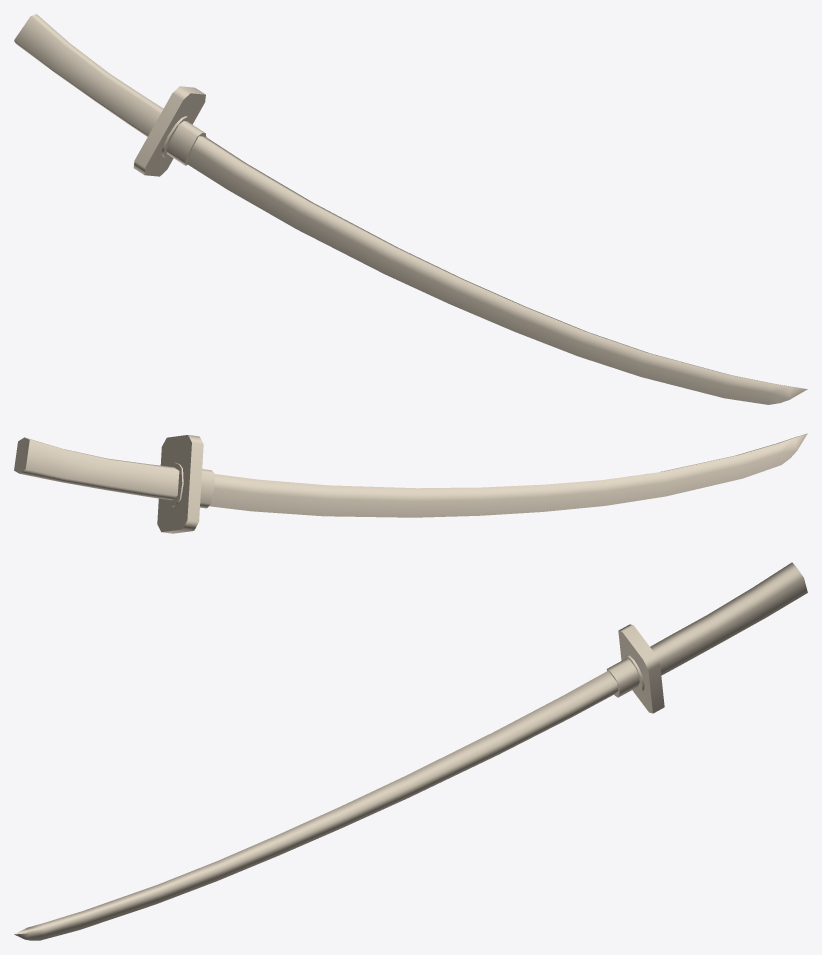
File: weapon-base.glb
3 views of the same model, one above another, from view 1: azimuth 90°, elevation 25°; view 2: azimuth 150°, elevation 25°; view 3: azimuth 330°, elevation 25° (orthographic).
Bounding box in the file's own units: 0.5923 × 0.2838 × 1.
